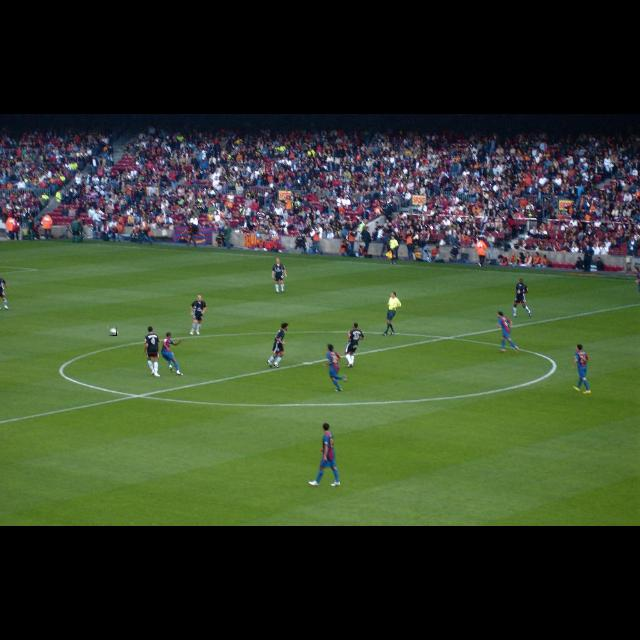Football: (107, 326, 117, 336)
